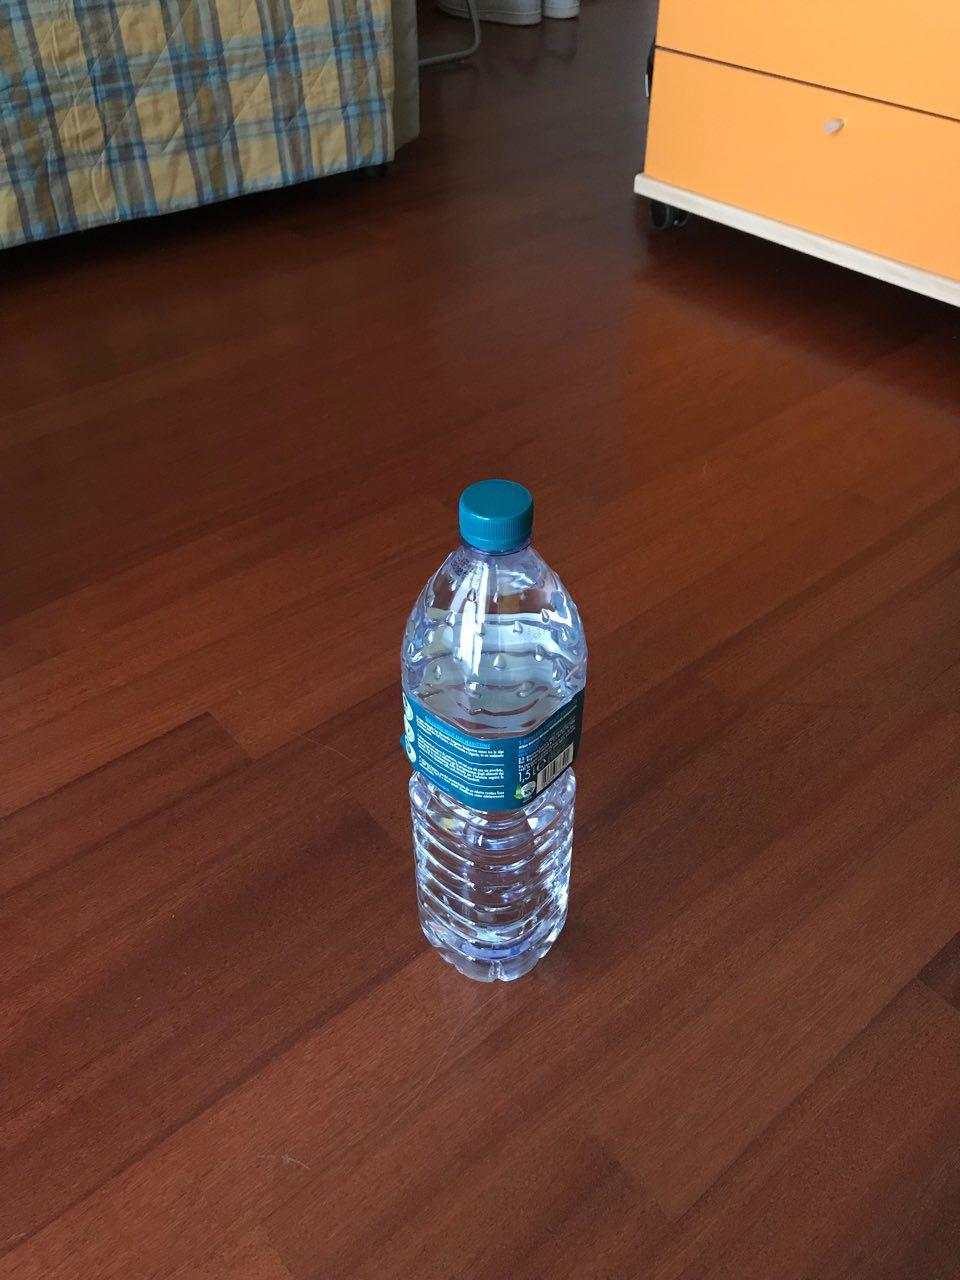san_bernardo: (396, 478, 590, 985)
